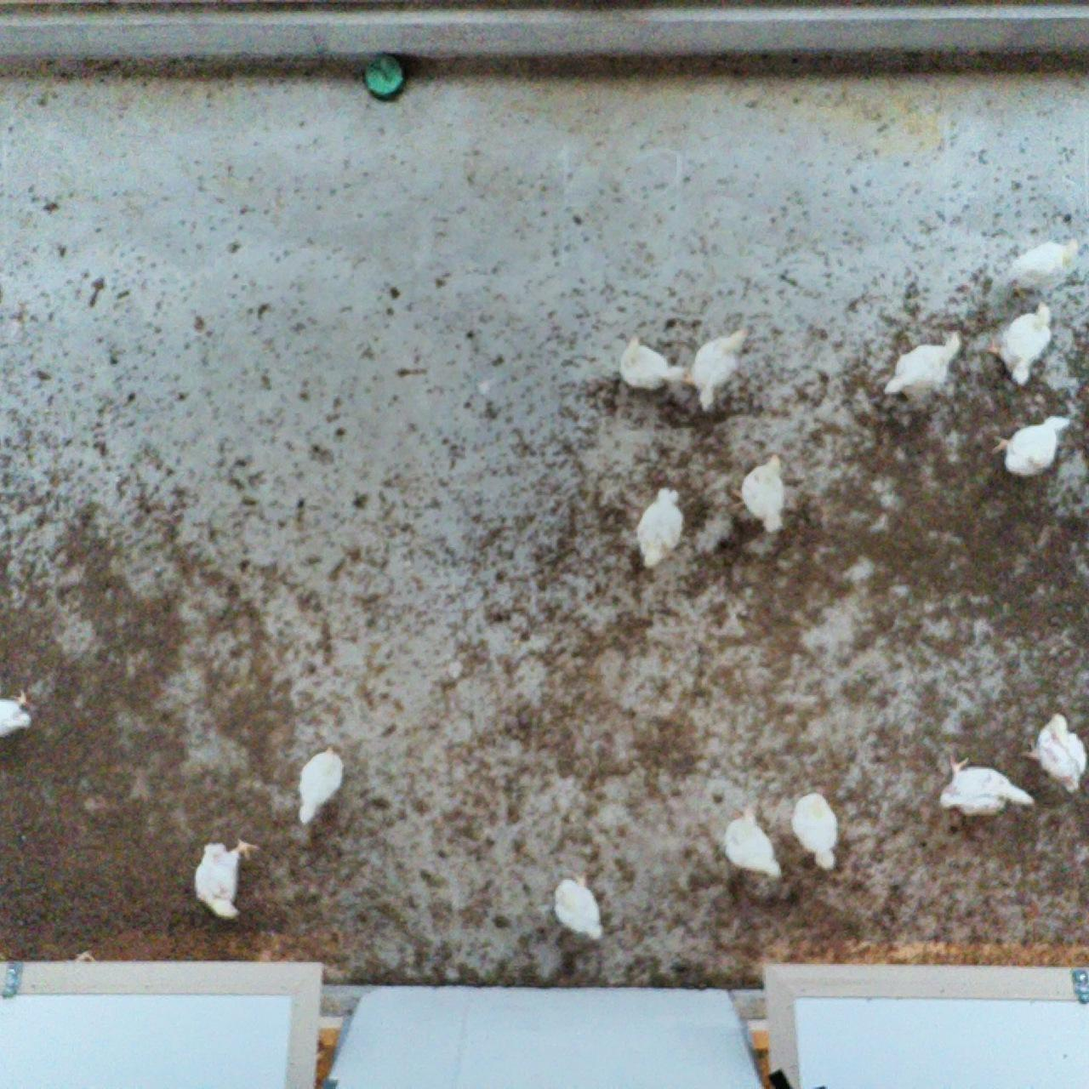chicken: (934, 752, 1036, 821), (189, 837, 261, 922), (988, 299, 1056, 388), (882, 328, 963, 402), (688, 324, 752, 416), (991, 411, 1073, 482), (1024, 709, 1089, 797), (1009, 235, 1083, 302), (730, 452, 787, 536), (632, 485, 686, 573), (722, 805, 784, 881), (617, 333, 696, 392), (294, 741, 345, 829), (549, 869, 607, 944), (790, 790, 840, 873), (0, 686, 37, 737)
